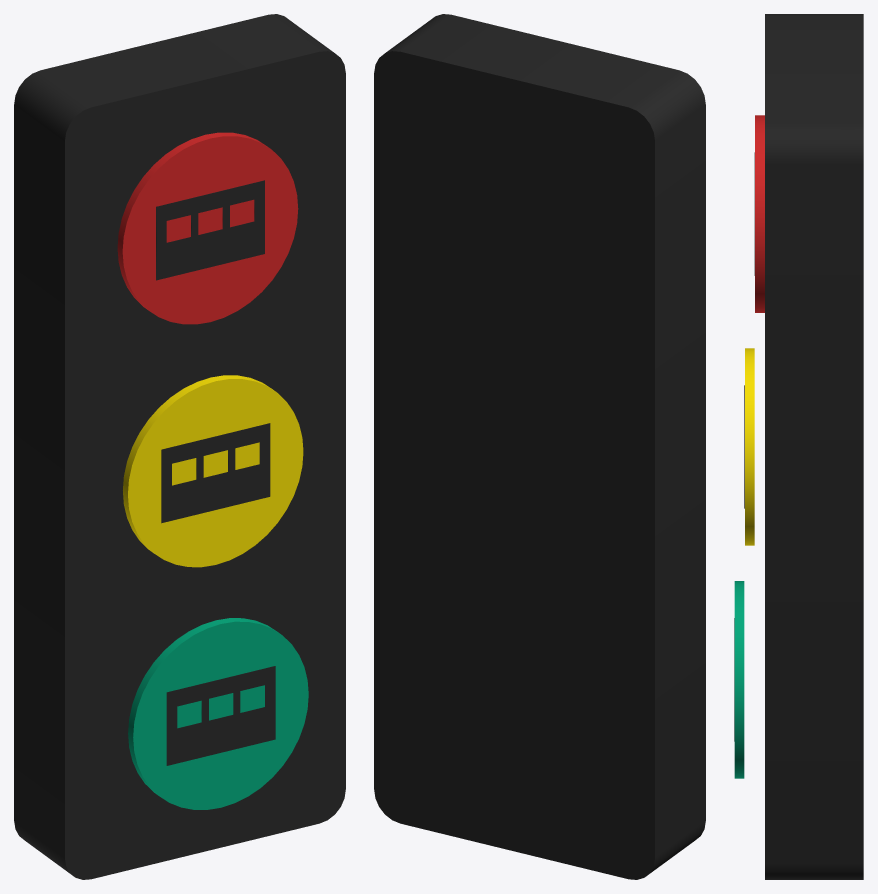
3 renders of one model, left to right at view 1: azimuth 30°, elevation 25°; view 2: azimuth 150°, elevation 25°; view 3: azimuth 270°, elevation 25°, orthographic. The views are drawn at different scales.
Parts seen in each view (by area): view 1: R13b_r00, R13b_d276, R13b_d302, R13b_d250, R13b_s327, R13b_s301, R13b_s275; view 2: R13b_r00; view 3: R13b_r00, R13b_d302, R13b_d250, R13b_d276.
Part boxes in pixels (x1,y1,x2,y2): R13b_r00: (14, 14, 345, 879); R13b_d276: (123, 375, 303, 567); R13b_d302: (128, 618, 308, 809); R13b_d250: (117, 132, 298, 324); R13b_s327: (166, 666, 275, 765); R13b_s301: (161, 423, 270, 523); R13b_s275: (156, 180, 264, 280); R13b_r00: (374, 14, 705, 879); R13b_r00: (765, 14, 863, 879); R13b_d302: (734, 581, 744, 778); R13b_d250: (755, 115, 764, 312); R13b_d276: (745, 348, 754, 545).
Bounding box in the file's own units: 0.32 × 0.84 × 0.1312.
